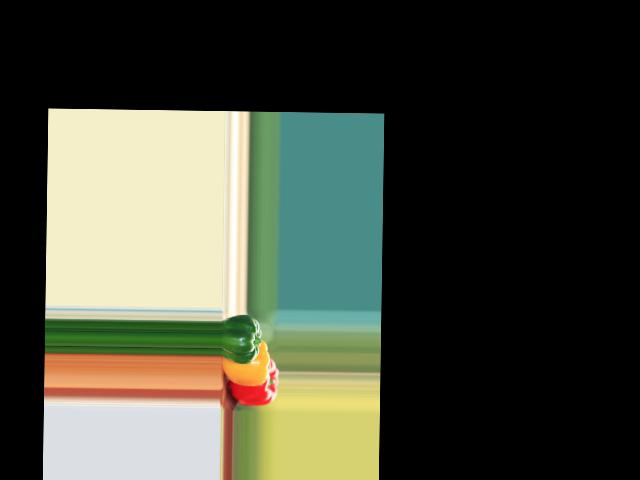bell_pepper: (222, 357, 278, 405)
